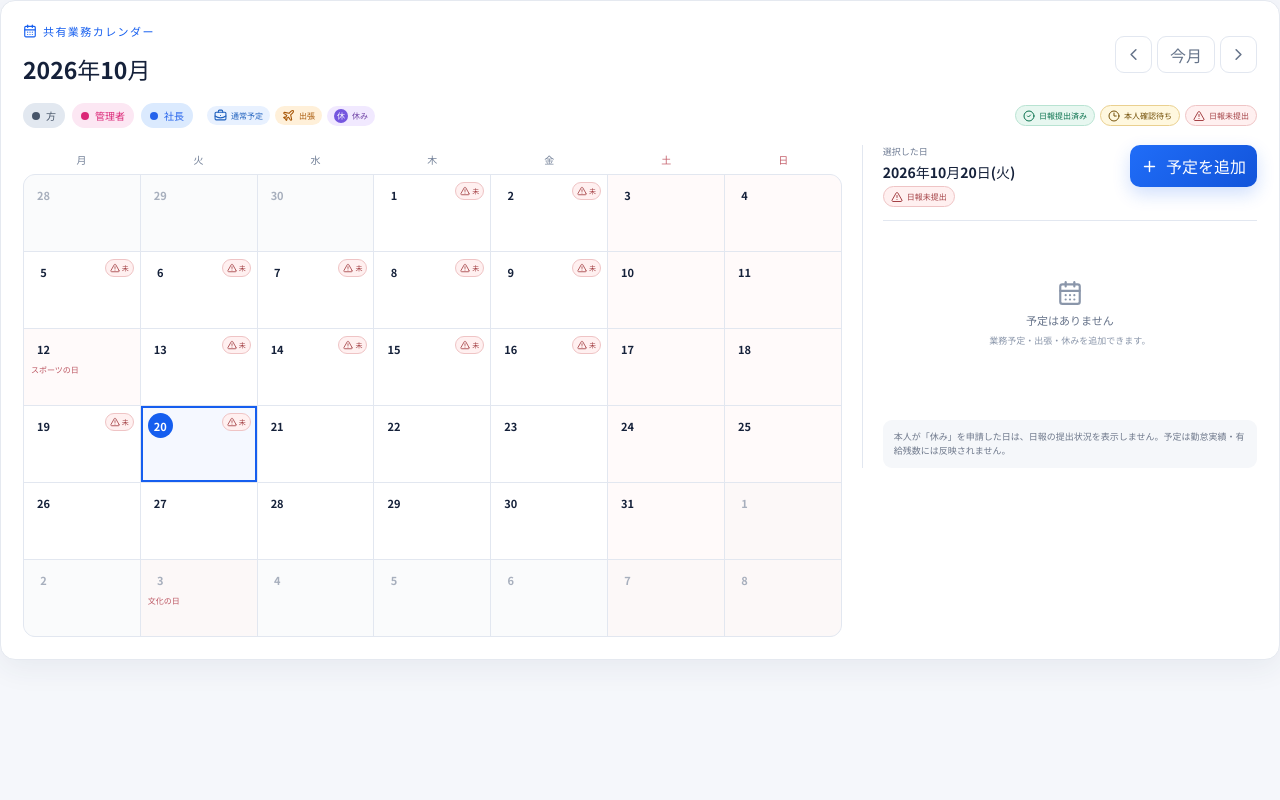
Test case: SharedCalendar › opens a new event form with the signed-in creator selected
The image size is (1280, 800).
Click the button "予定を追加" at (1194, 166), box x1=1130 y1=145 x2=1257 y2=187
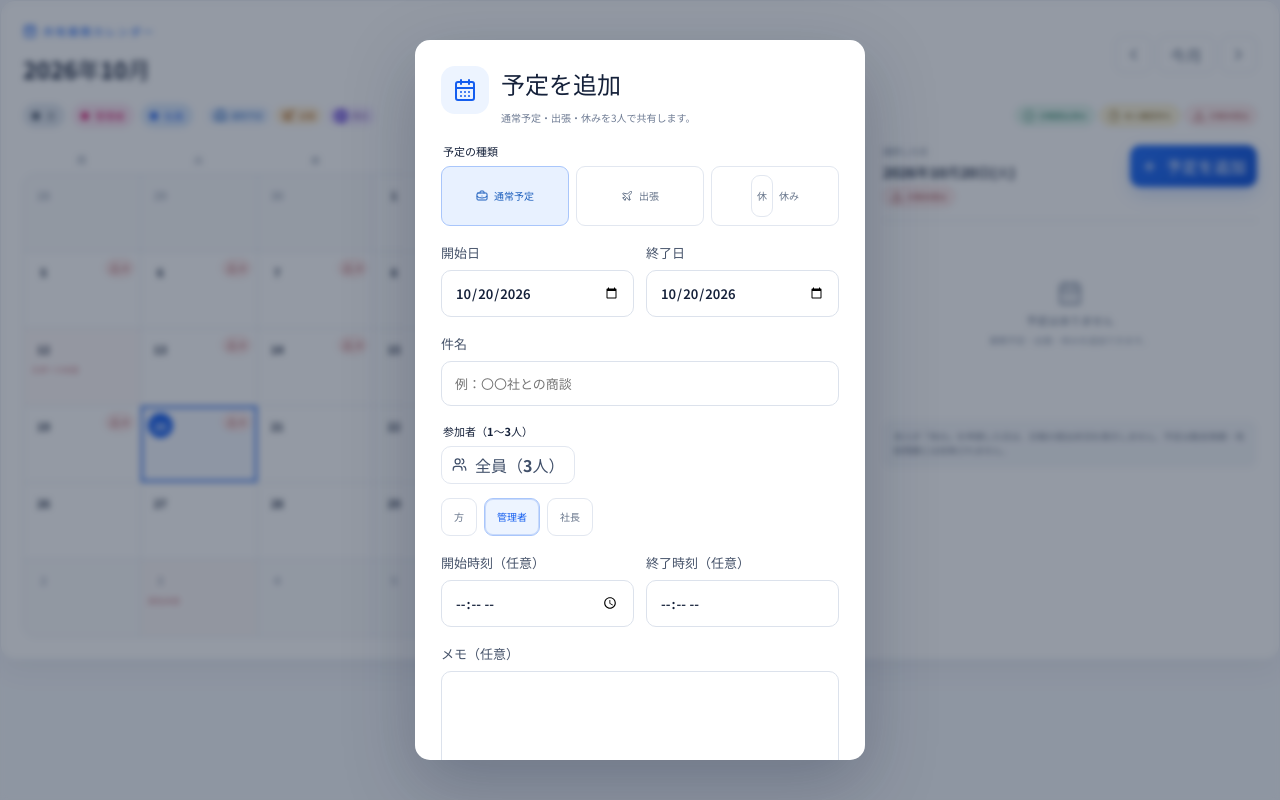
Expected: the dialog "予定を追加" is shown, x1=415 y1=40 x2=865 y2=760
Expected: the checkbox labelled "管理者" is checked, x1=484 y1=498 x2=540 y2=536
Expected: the checkbox labelled "方" is not checked, x1=441 y1=498 x2=477 y2=536
